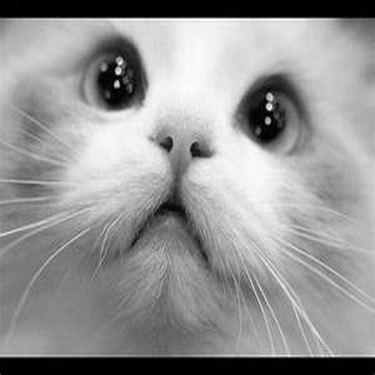cat: (3, 21, 370, 354)
